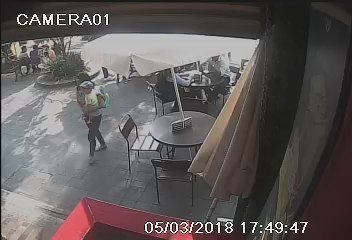libre: (115, 106, 220, 205)
ocupado: (146, 52, 239, 116)
